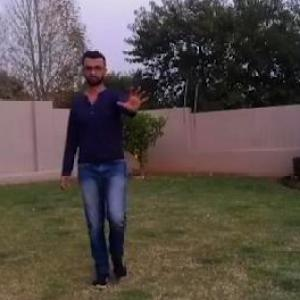follow_hand: (114, 80, 151, 112)
